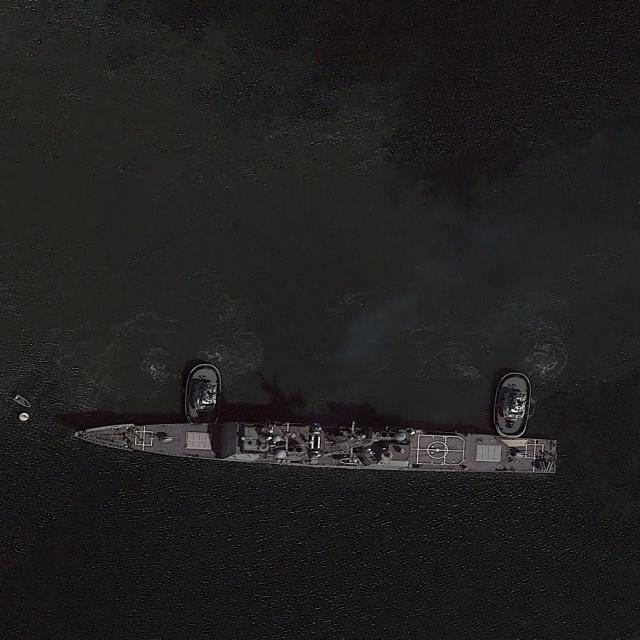Cruiser: (72, 416, 560, 475)
Hovercraft: (491, 368, 533, 440), (182, 361, 224, 427)
Other Ship: (12, 393, 33, 411)
